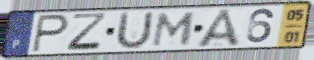6: (245, 7, 275, 46)
A: (195, 7, 243, 49)
M: (150, 11, 198, 49)
P: (29, 13, 71, 54)
U: (113, 10, 156, 52)
Z: (65, 12, 110, 52)
